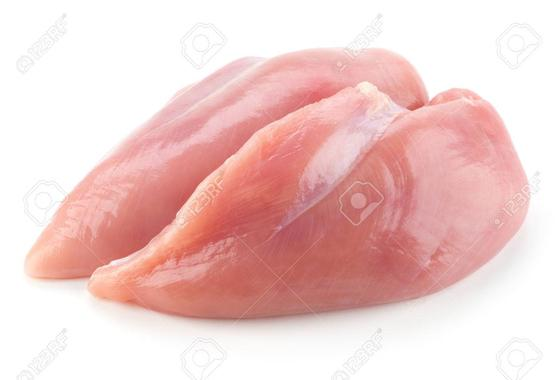chicken_fillet: (115, 93, 530, 322), (38, 43, 433, 253)
